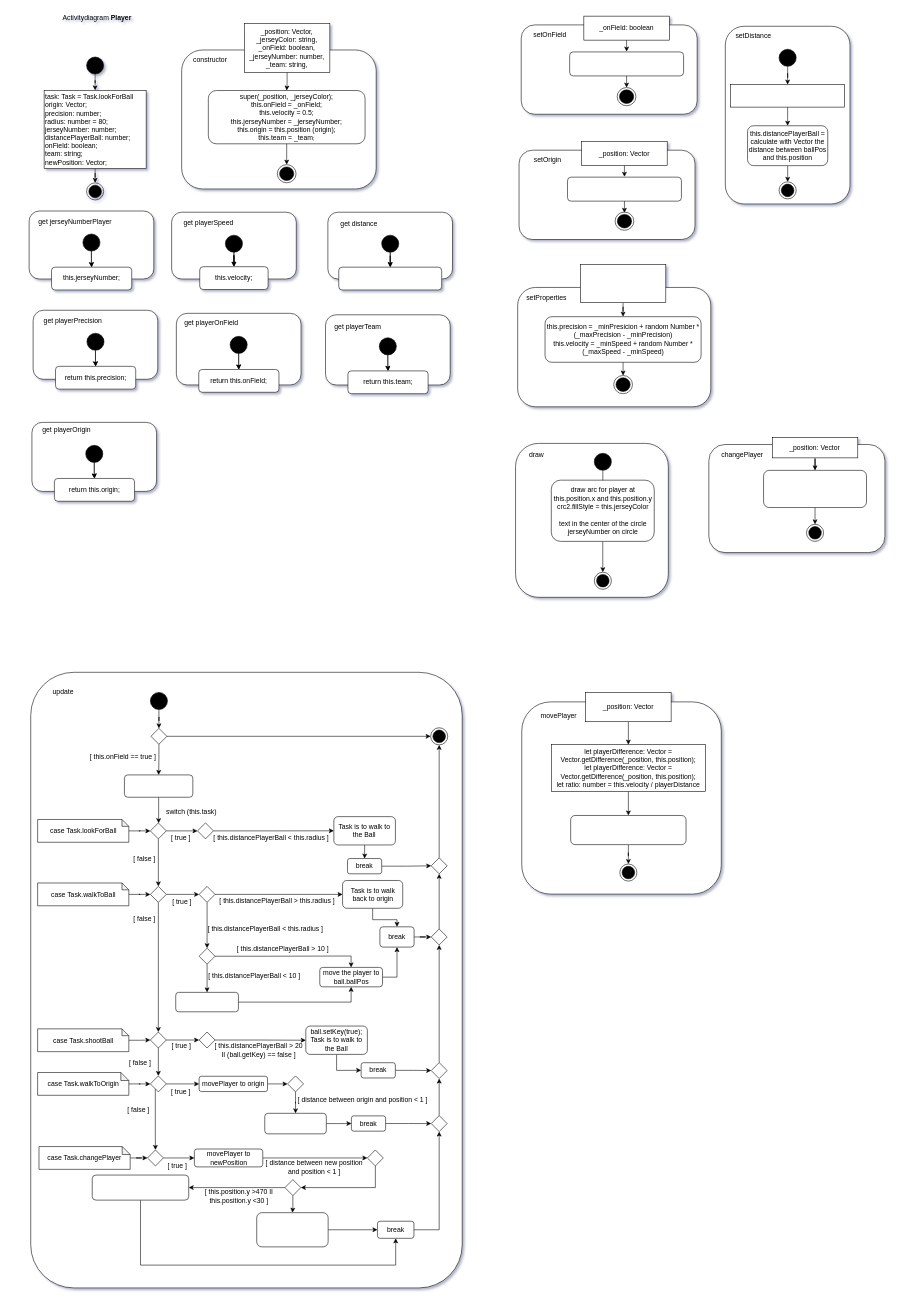
The diagram is 898 pixels wide and 1302 high, and some of its shapes have lost their labels. Each missing label, with the centre of its shape:
"_minSpeed: number _maxSpeed: number _minPrecision: number _maxPrecision: number" belongs at (x=623, y=283).
"let ballPos: Vector = ball.ballPos;" belongs at (x=787, y=95).
"playerDifference.scale(ratio); this.position.add(playerDifference); this.draw;" belongs at (x=628, y=830).
"Task is lookForBall" belongs at (x=295, y=1123).
"Task is to shootBall" belongs at (x=206, y=1002).
"this.distancePlayerBall;" belongs at (x=390, y=278).
"this.newPosition = _position this.task = Task.changePlayer" belongs at (x=815, y=489).
"this.onField = _onField;" belongs at (x=626, y=63).
"this.origin = _position;" belongs at (x=624, y=189).
"this.setDistance();" belongs at (x=158, y=785).
"this.setOnField(true) this.task = Task.lookForBall" belongs at (x=292, y=1229).
"this.setOnField(true) this.task = Task.lookForBall;" belongs at (x=140, y=1187).
